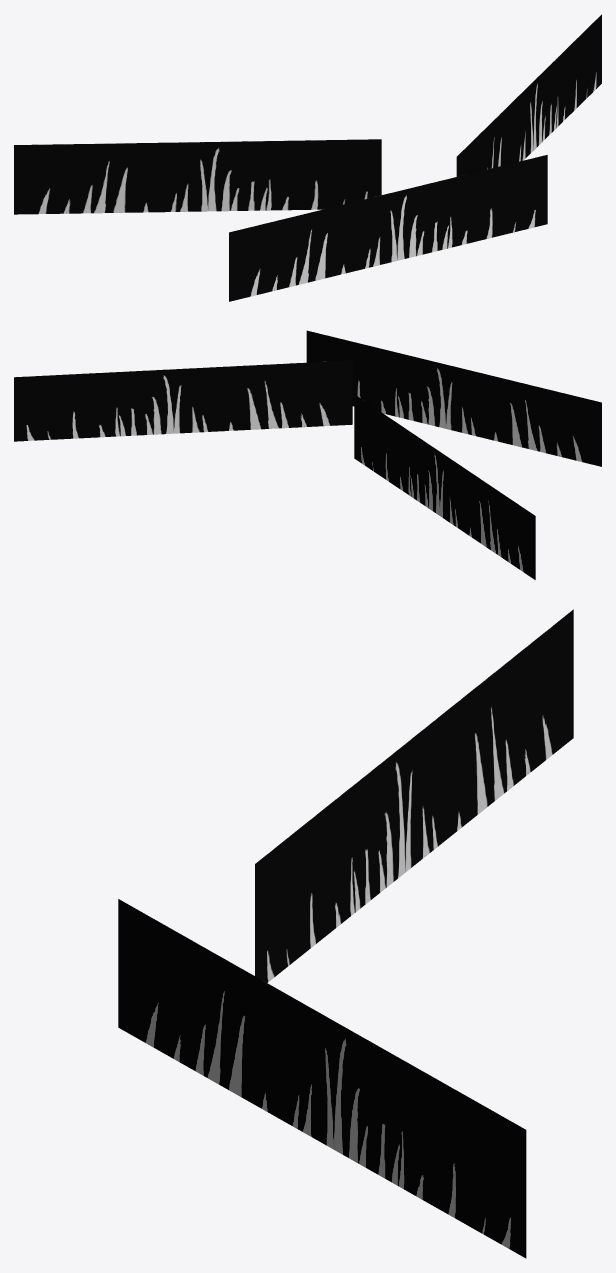
File: small grass.fbx
3 renders of one model, top to bottom at view 1: azimuth 30°, elevation 25°; view 2: azimuth 150°, elevation 25°; view 3: azimuth 270°, elevation 25°, orthographic. The views are drawn at different scales.
Visible parts, largest first — view 1: Plane; view 2: Plane; view 3: Plane.
Part boxes in pixels (x1,y1,x2,y2): Plane: [14, 14, 601, 301]; Plane: [14, 330, 601, 579]; Plane: [118, 609, 573, 1258].
Size of the model in its own units: 361 by 41.67 by 156.
Materials: 1 (1 with a texture image).
